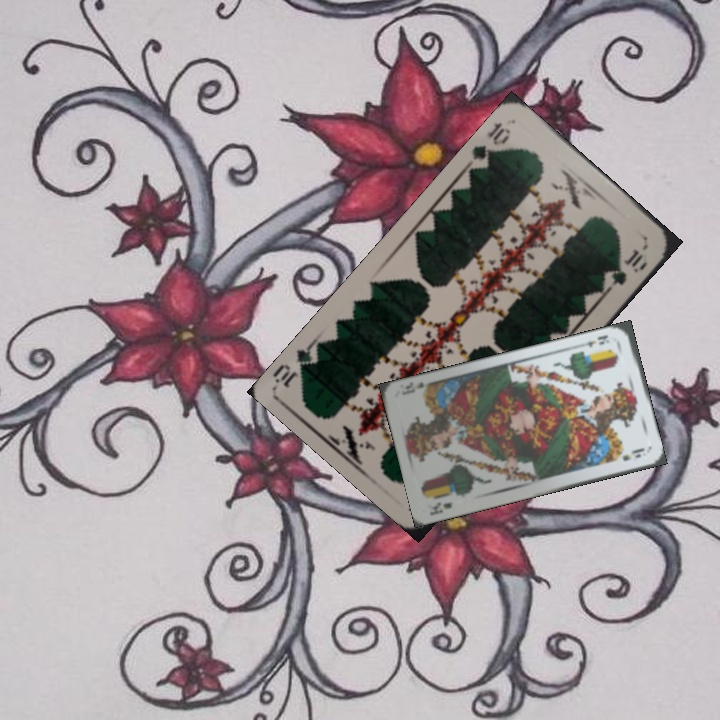EK: (578, 331, 612, 350), (425, 498, 455, 517)
G10: (464, 117, 513, 172)
